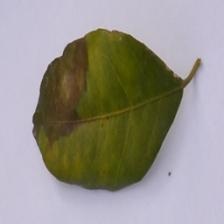black spot: (21, 36, 99, 130)
